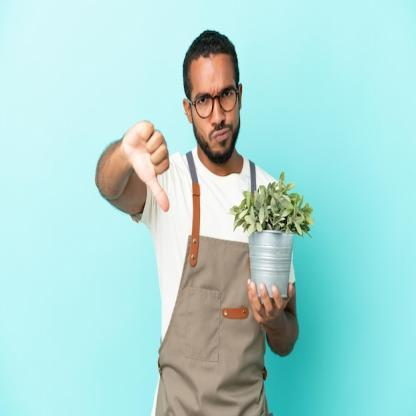thumb_down: (120, 113, 174, 214)
